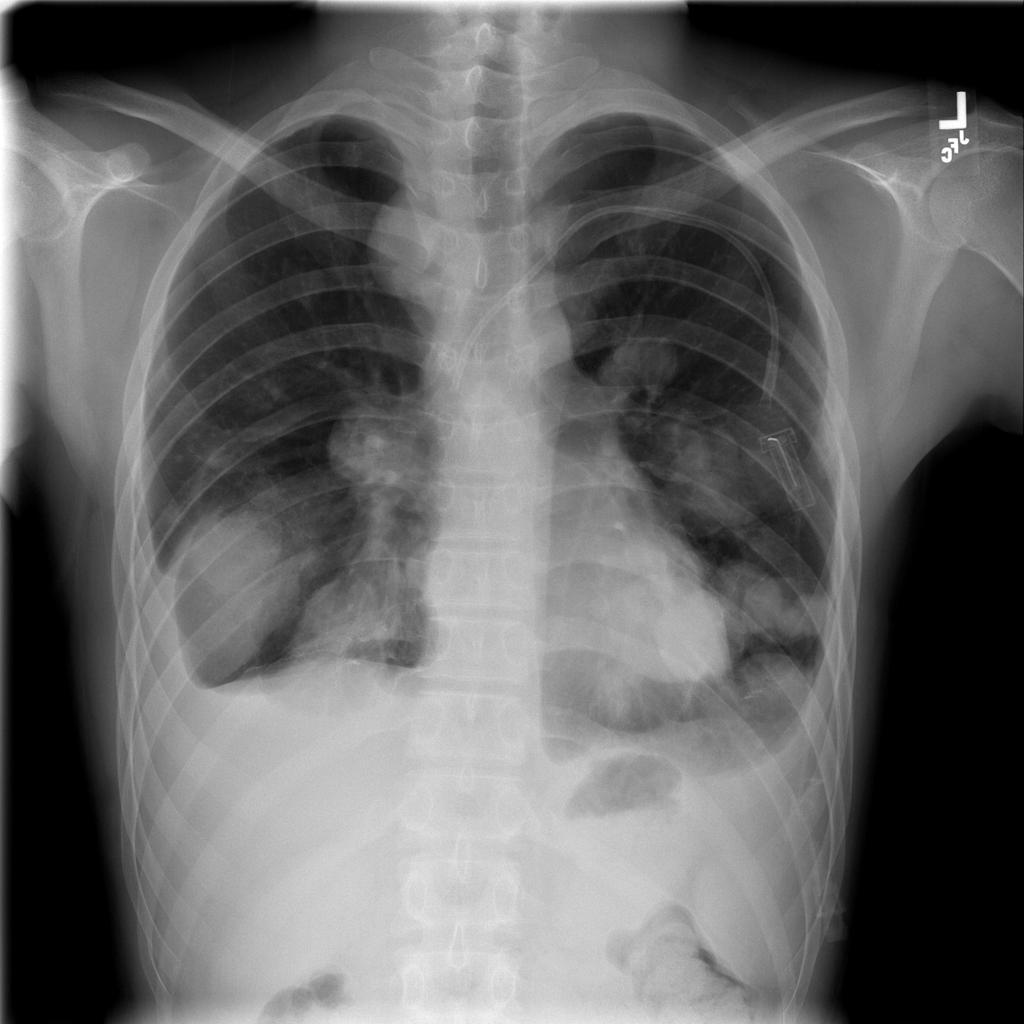nodule: (156, 486, 318, 689), (643, 396, 797, 545), (617, 571, 756, 695), (316, 385, 442, 505), (283, 567, 412, 684), (695, 551, 823, 652), (591, 314, 699, 412), (263, 245, 339, 319), (324, 129, 375, 180)
